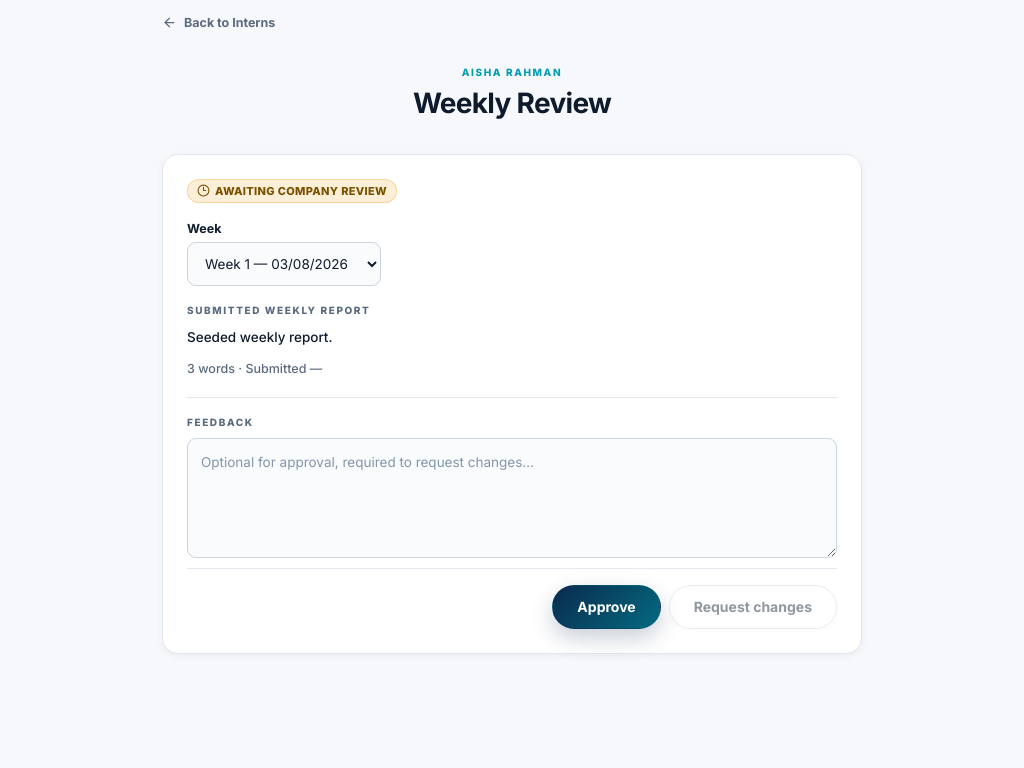
Scenario: managed reviewer flows › requires feedback to request changes and preserves it on success
Expected: the text "Seeded weekly report." is shown, [187,329,333,345]
Expected: the button "Request changes" is disabled, [669,584,837,628]
Type "Add concrete examples." into the text box named "Review feedback" at [512, 498], box [187,438,837,558]
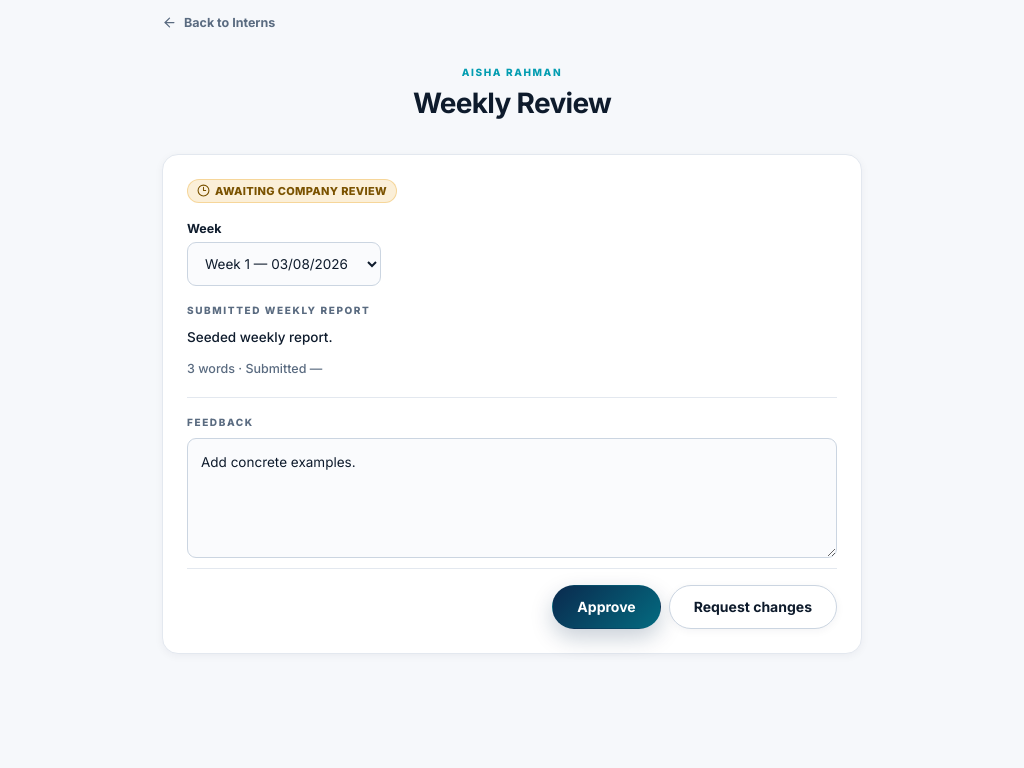
Click the button "Request changes" at [753, 606], box [669,584,837,628]
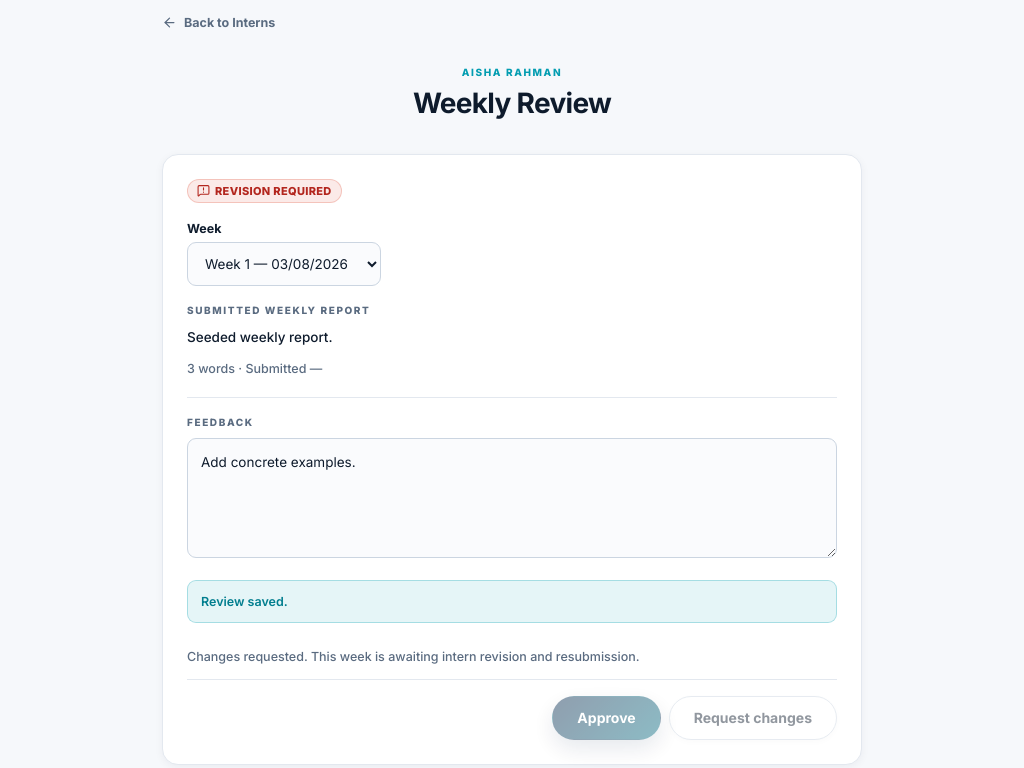
Result: the text "Review saved." is shown at [187,580,837,623]
